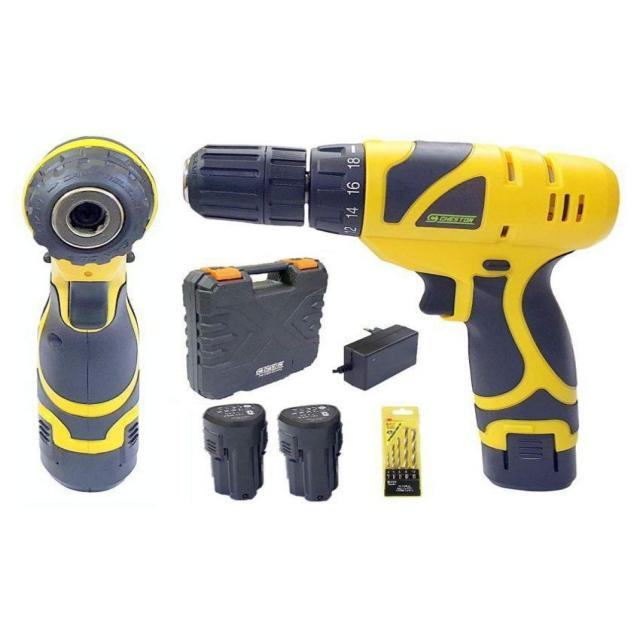drill: (181, 138, 622, 493), (22, 136, 160, 494)
